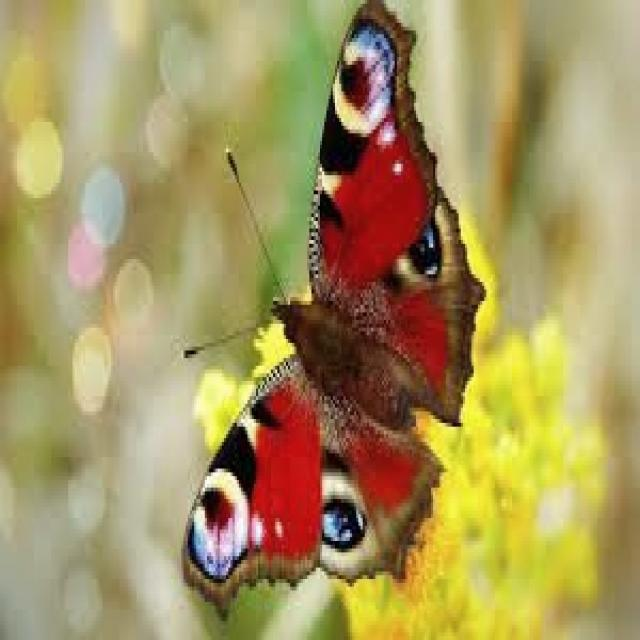butterfly: (181, 0, 482, 602)
